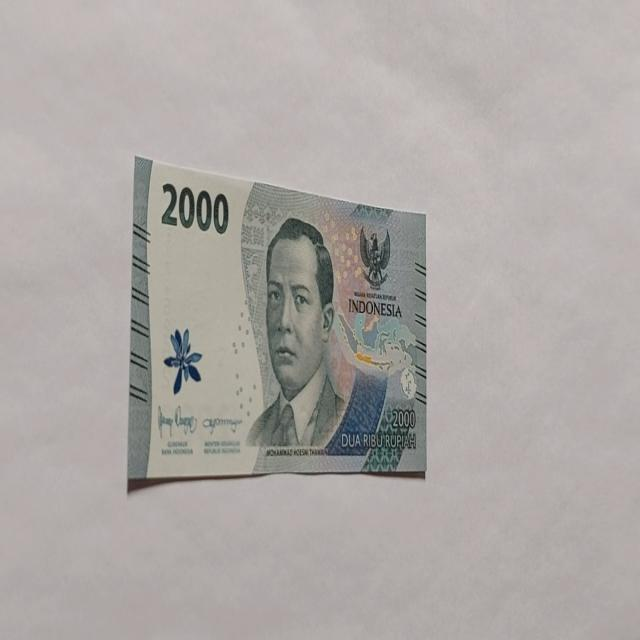dua ribu rupiah: (127, 154, 428, 491), (244, 215, 348, 453)
